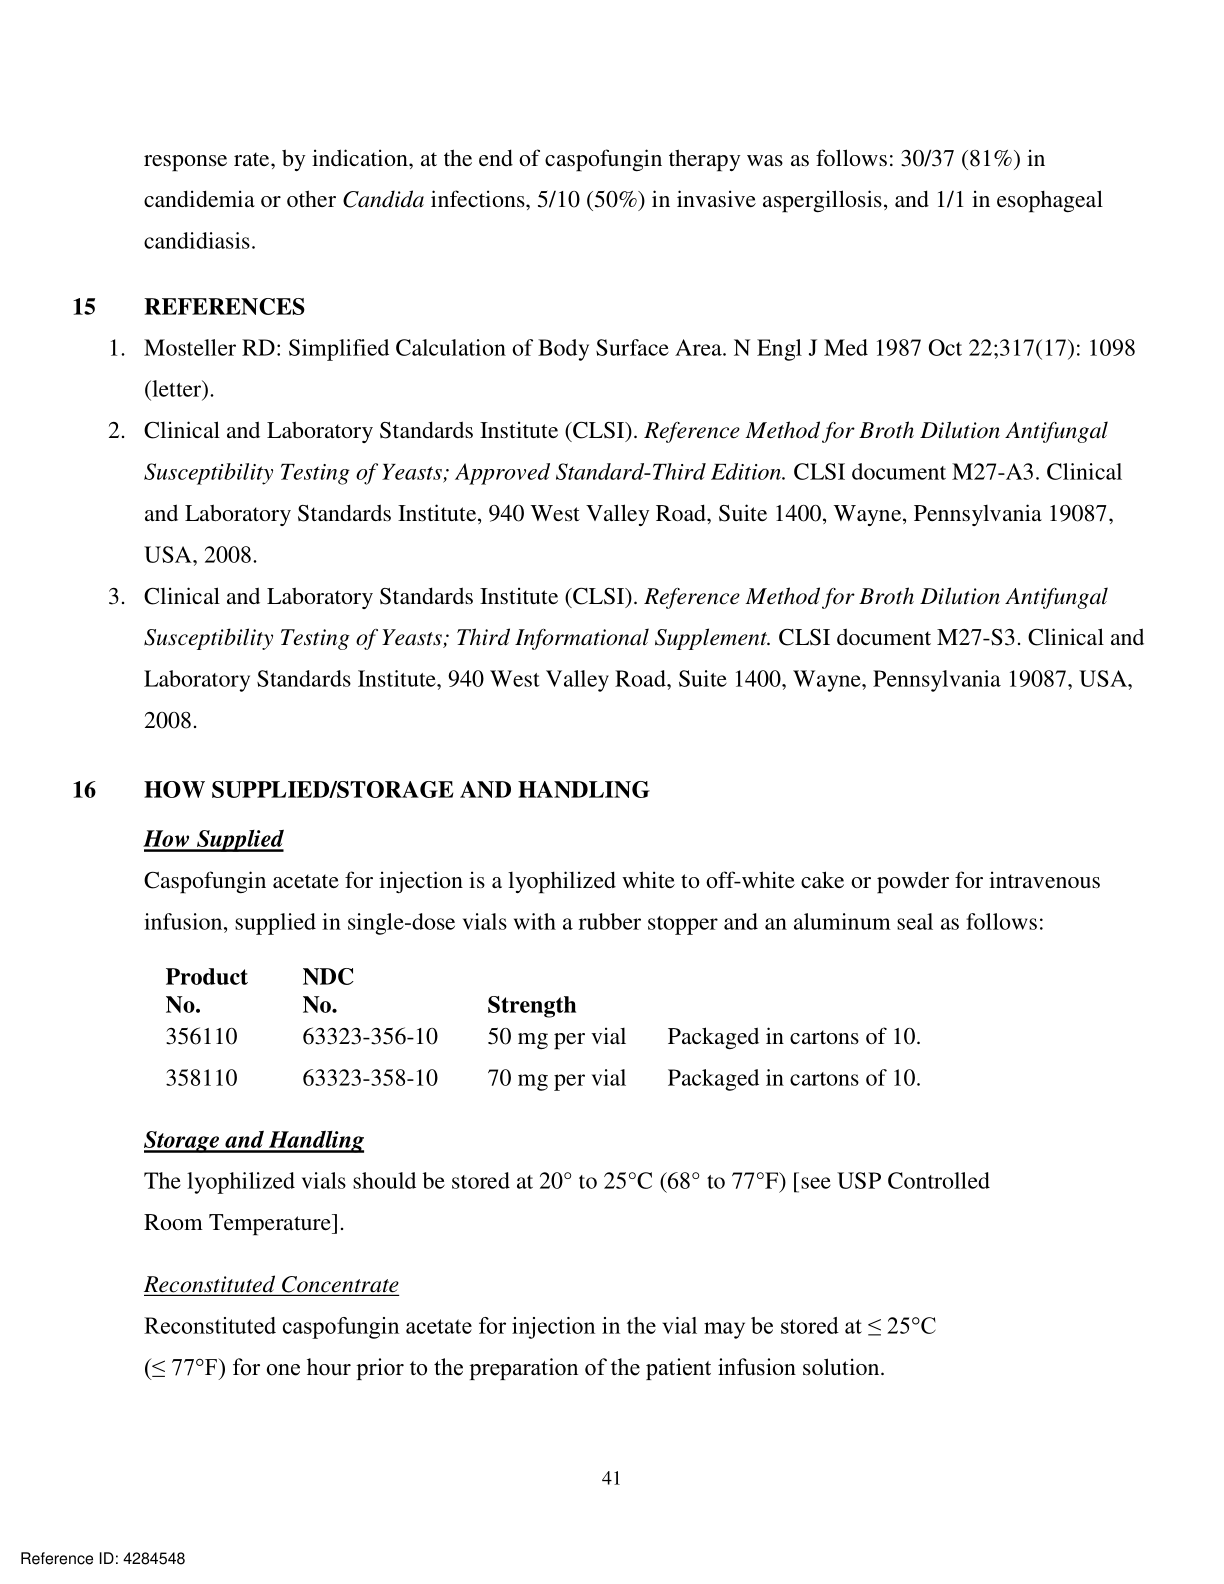nolines: (162, 963, 928, 1092)
